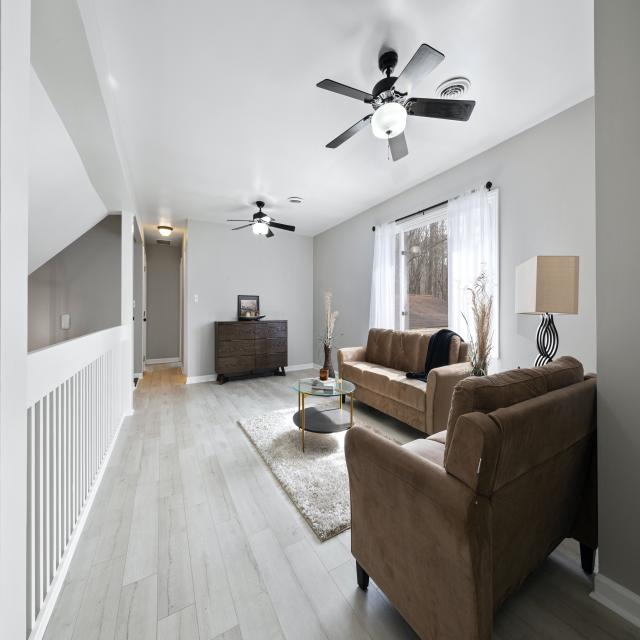floor: (41, 362, 424, 640), (492, 539, 640, 640), (353, 398, 431, 445), (304, 395, 340, 408), (342, 395, 351, 414)
wall: (313, 95, 597, 376), (594, 0, 640, 596), (77, 0, 147, 374), (187, 219, 313, 377), (28, 214, 122, 353), (146, 244, 180, 360), (121, 211, 132, 413), (180, 219, 188, 368), (180, 247, 181, 260)
